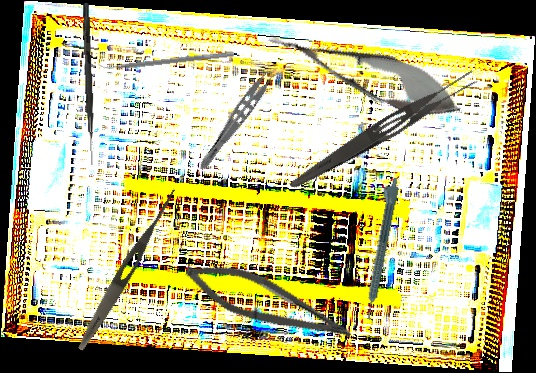Dressing Forceps: (286, 64, 482, 199), (73, 184, 181, 354)
Handpiece: (357, 175, 401, 321)
Hook Surgical: (80, 2, 98, 166)
Micro Scissor: (260, 14, 470, 132), (178, 251, 360, 352)
Spatula Surgical: (96, 45, 235, 74)
Tissue Forceps: (195, 61, 284, 178)
